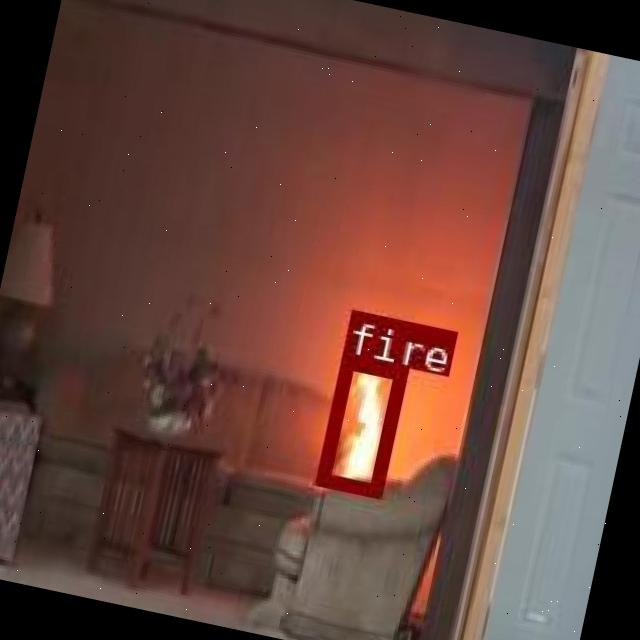fire: (314, 352, 406, 494)
